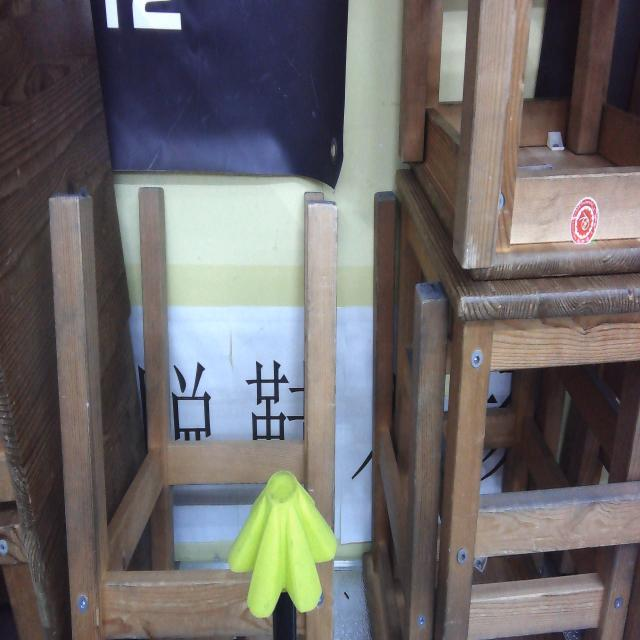Yellow-Stake-Head: (227, 470, 338, 618)
